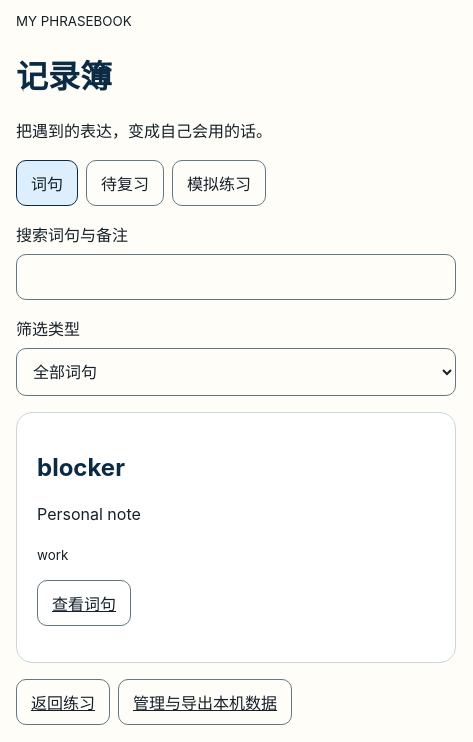
Test: shows a real due review queue with hidden recall and a distinct empty simulation list
Expected: the heading "blocker" is shown, [37, 453, 125, 482]
Click the tab "待复习". click: (125, 184)
box: [86, 160, 164, 206]
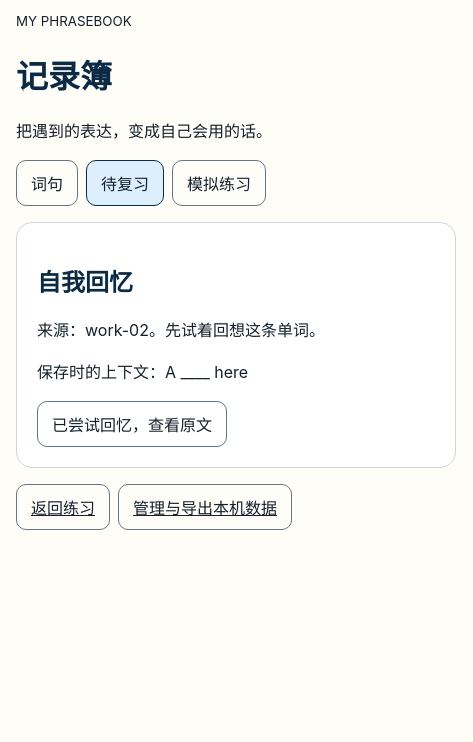
Expected: the button "已尝试回忆，查看原文" is shown
Expected: the heading "blocker" is gone
Click the button "已尝试回忆，查看原文". click: (132, 424)
box: [37, 402, 227, 448]
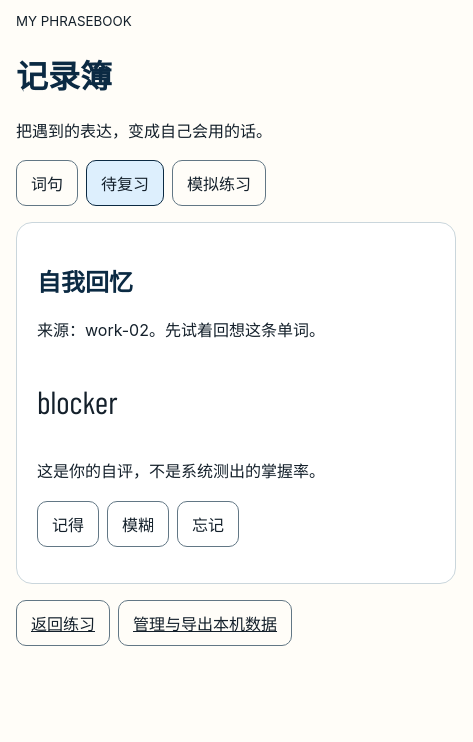
Click the button "记得". click: (68, 524)
box: [37, 501, 99, 547]
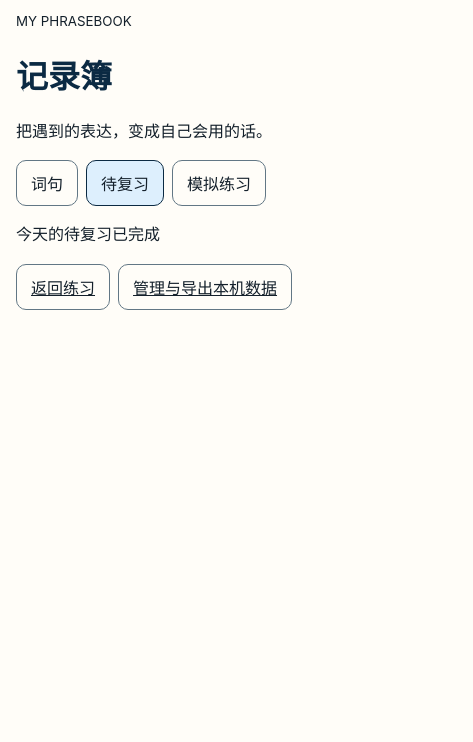
Expected: the text "今天的待复习已完成" is shown, [16, 224, 160, 244]
Click the tab "模拟练习". click: (219, 184)
box: [172, 160, 266, 206]
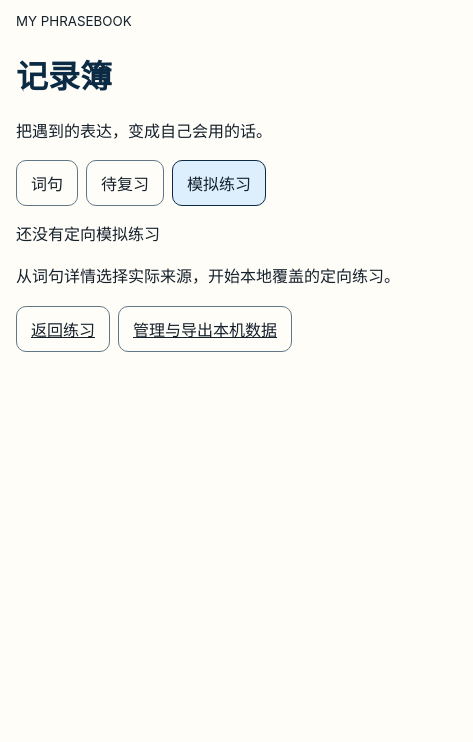
Expected: the text "还没有定向模拟练习" is shown, [16, 224, 160, 244]
